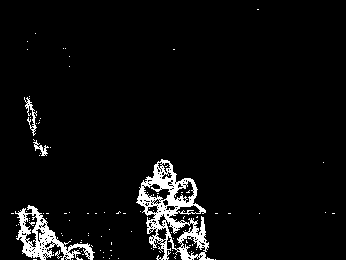person: (138, 152, 173, 259), (20, 92, 52, 167)
